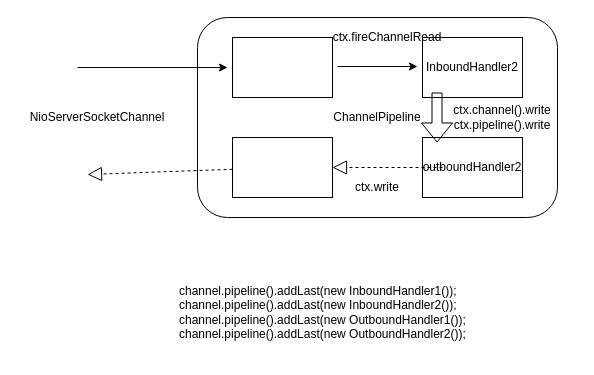
This 594x375 diagram has some shape labels left out. The shapes that lost their labels are listed below. From the top down, each one's centre as x and y in pixels, then its label:
At point 282,67: "InboundHandler1".
At point 282,167: "outboundHandler1".
